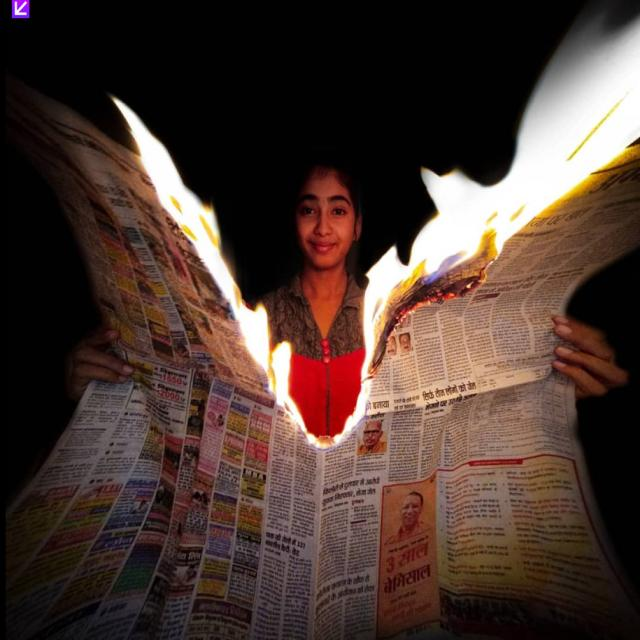fire: (112, 97, 270, 367), (514, 6, 640, 232), (362, 169, 514, 356), (349, 356, 372, 435), (290, 401, 322, 448), (269, 342, 288, 406)
